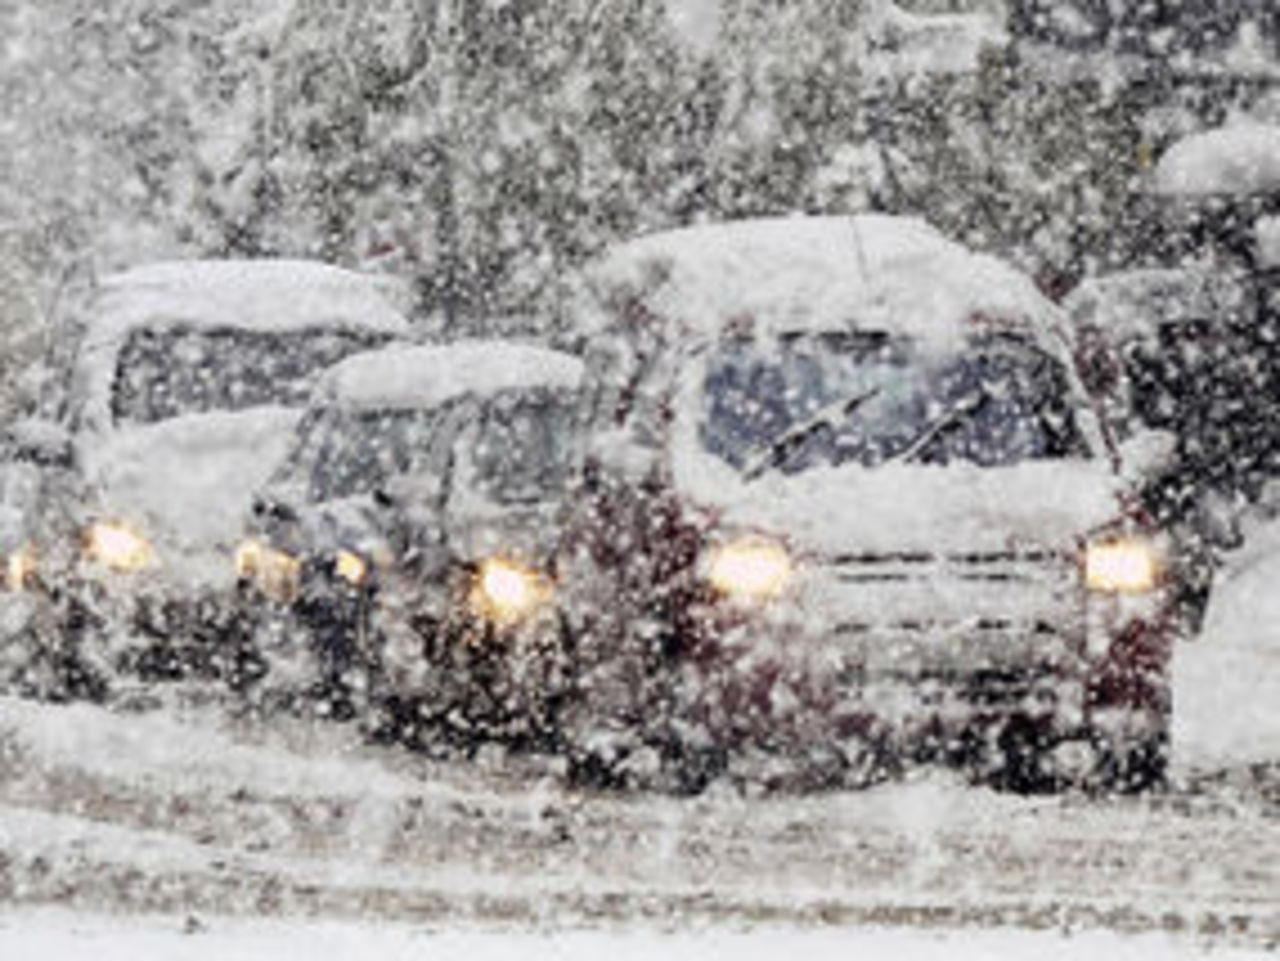car: (586, 246, 1158, 799), (52, 281, 380, 670), (398, 406, 581, 766), (251, 375, 385, 727)
